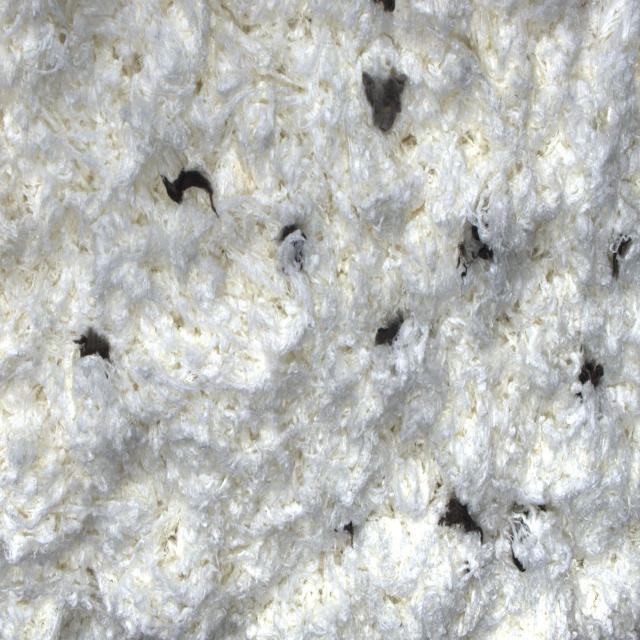dust: (425, 460, 491, 584), (563, 326, 612, 429), (273, 191, 317, 299), (356, 59, 412, 140), (155, 161, 222, 224), (451, 212, 499, 289), (371, 285, 412, 358), (73, 324, 116, 371), (507, 533, 537, 597), (503, 495, 559, 527), (607, 228, 633, 288), (367, 0, 407, 34), (337, 511, 363, 554)
